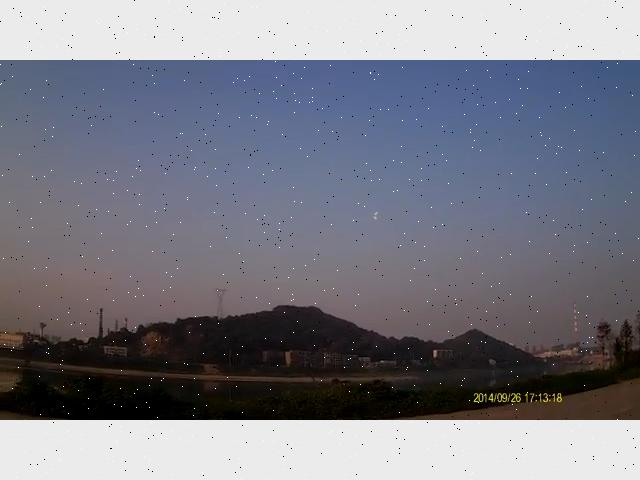Anti-Drone: (358, 200, 390, 230)
